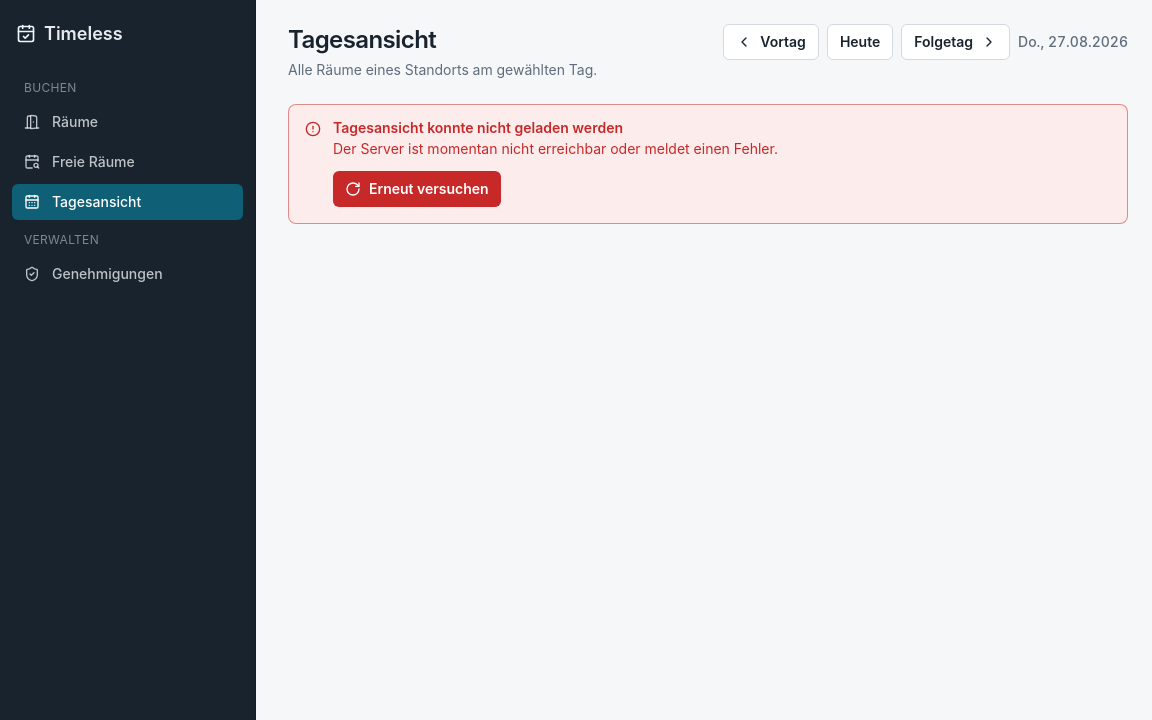
Tagesansicht – Zustände › zeigt bei API-Fehlern ein destructives Alert und lädt per „Erneut versuchen“ neu
Expected: the message with test id "dayview-error" shows "Tagesansicht konnte nicht geladen werden", [333,119,623,136]
Click the button with test id "dayview-retry".
click(417, 189)  # box [333,171,501,207]
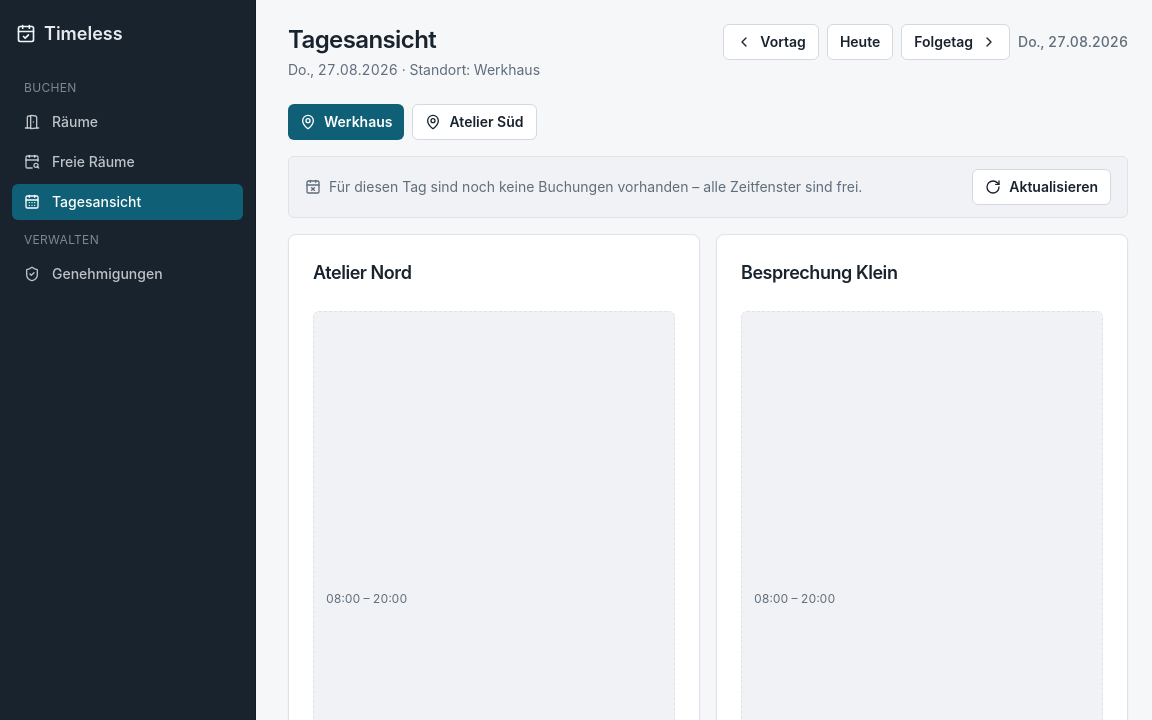
Expected: the heading "Atelier Nord" is shown, [313,262,411,283]
Expected: the message with test id "dayview-error" is gone
